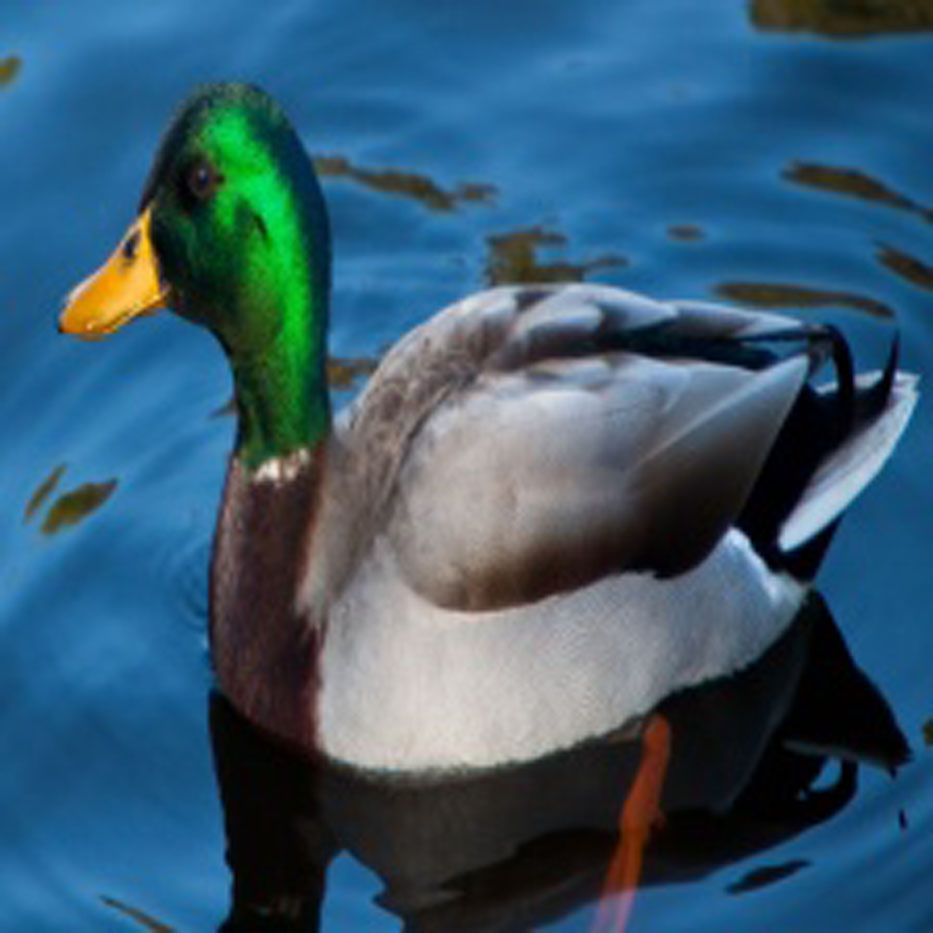Mencari Makan di Lumpur: (50, 224, 177, 365)
